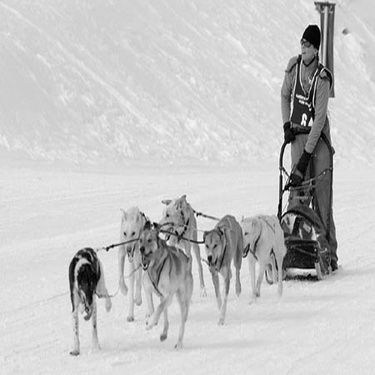dog: (135, 217, 197, 350), (62, 241, 113, 359), (156, 192, 208, 302), (203, 213, 246, 329), (236, 212, 290, 302), (115, 198, 152, 319), (295, 217, 322, 250)
